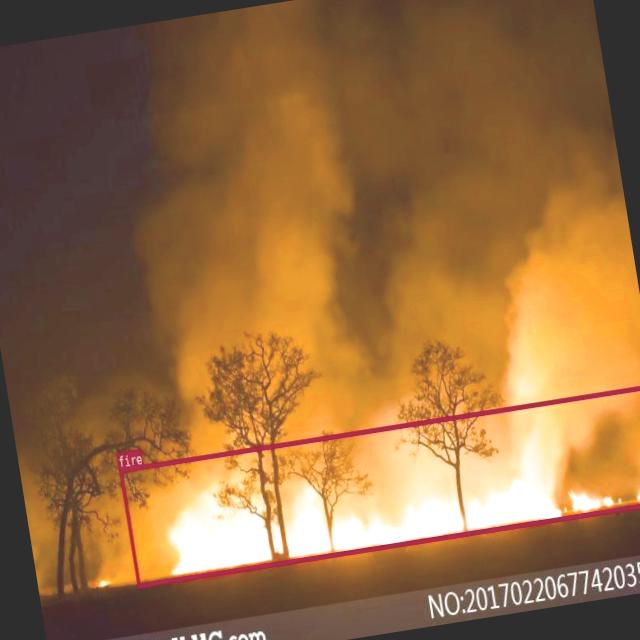fire: (119, 383, 640, 587)
